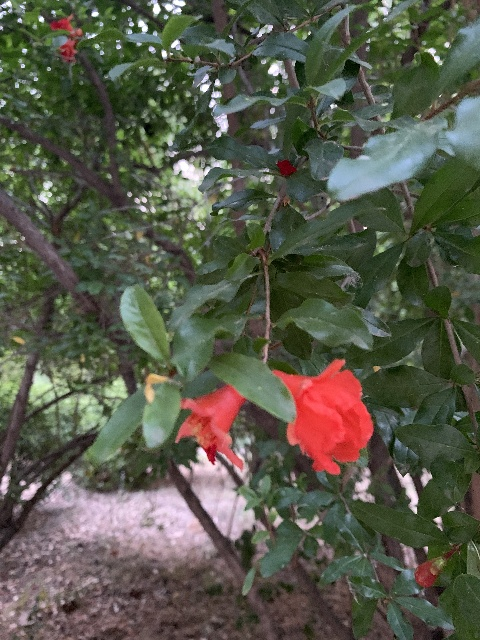bud: (414, 560, 440, 587), (430, 560, 444, 575)
flower: (273, 357, 373, 475), (175, 383, 247, 470), (49, 12, 74, 36), (56, 38, 78, 63)
